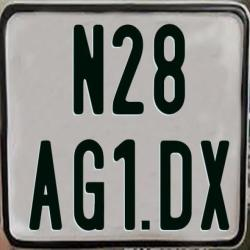1: (112, 138, 137, 230)
2: (111, 23, 143, 117)
8: (153, 23, 187, 117)
A: (28, 140, 64, 233)
D: (160, 140, 194, 230)
G: (72, 138, 106, 233)
N: (74, 25, 106, 116)
X: (200, 138, 230, 228)
